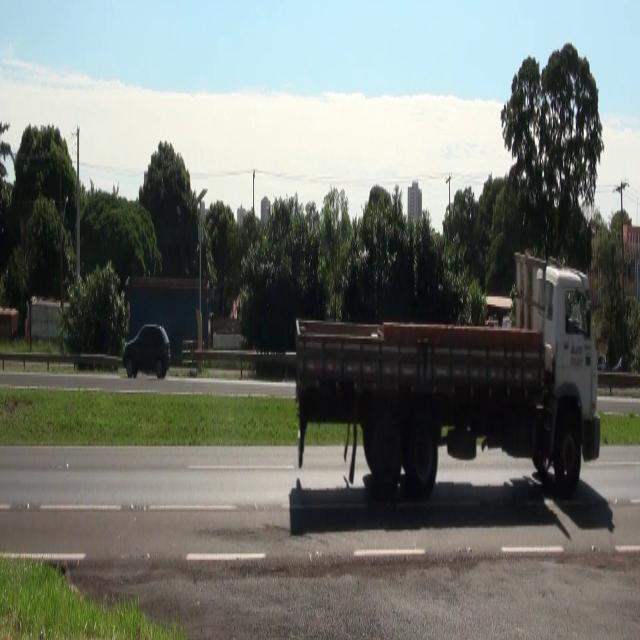-axle: (372, 404, 405, 506), (409, 410, 438, 499), (557, 410, 582, 493)
